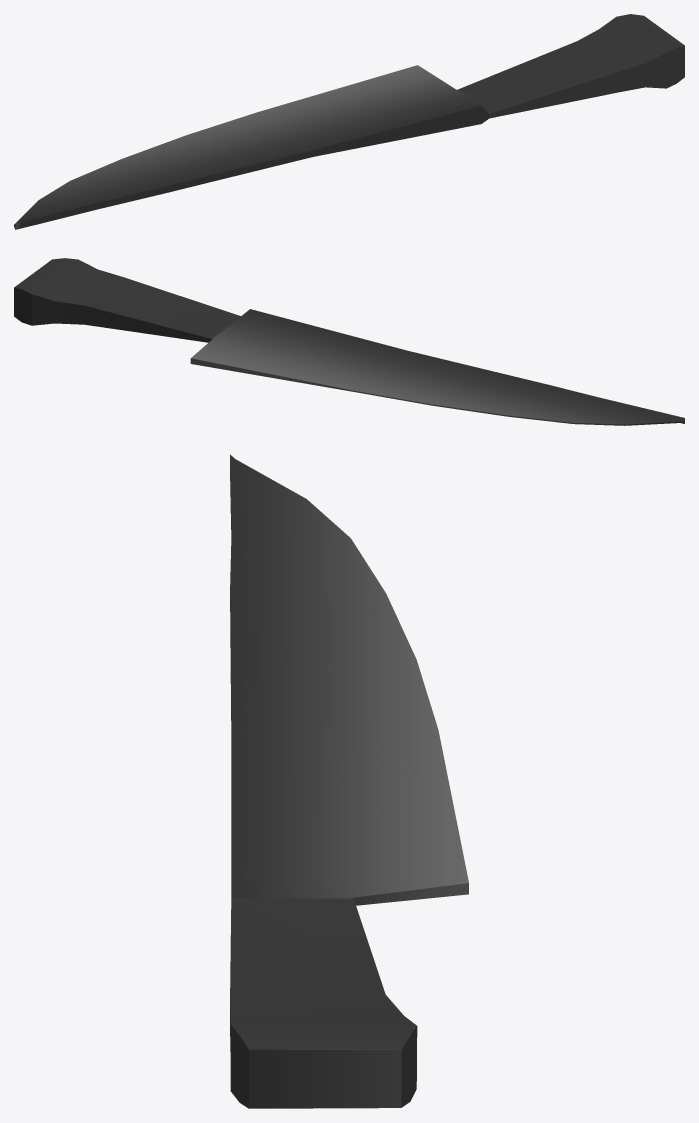
File: knife.gltf
3 renders of one model, top to bottom at view 1: azimuth 30°, elevation 25°; view 2: azimuth 150°, elevation 25°; view 3: azimuth 270°, elevation 25°, orthographic. The views are drawn at different scales.
Parts seen in each view (by area): view 1: knife1; view 2: knife1; view 3: knife1.
Boxes of the visible parts, left/top/right/bottom form: knife1: left=14, top=14, right=684, bottom=229; knife1: left=14, top=258, right=684, bottom=425; knife1: left=230, top=454, right=468, bottom=1108.
Size of the model in its own units: 15.79 by 0.8108 by 2.6.
1 material, 1 textured.
